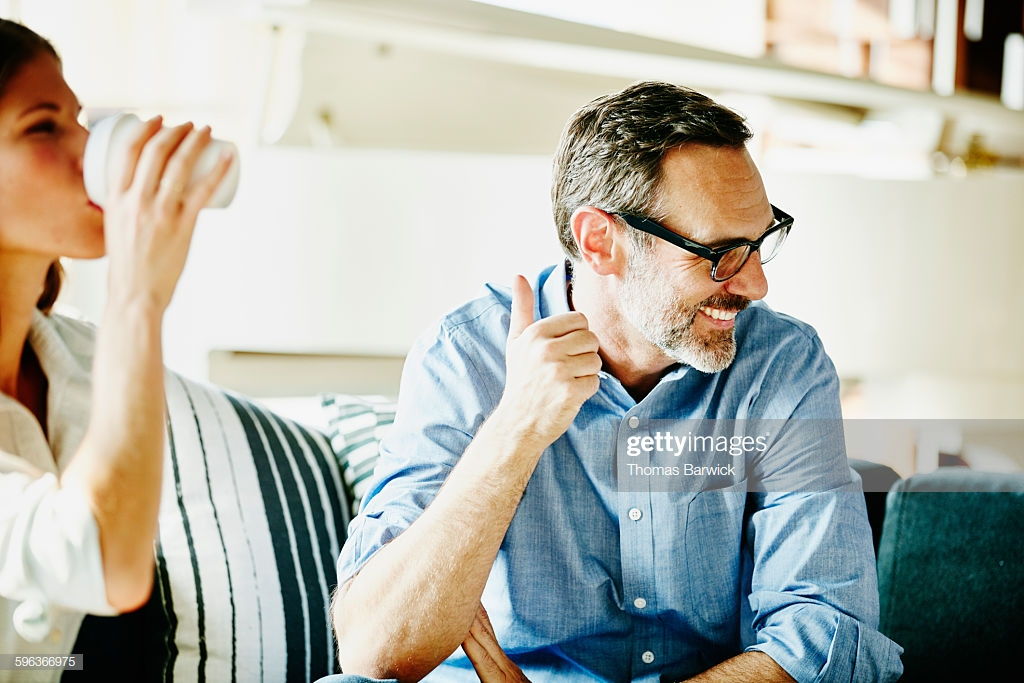thumbsup: (508, 274, 601, 396)
